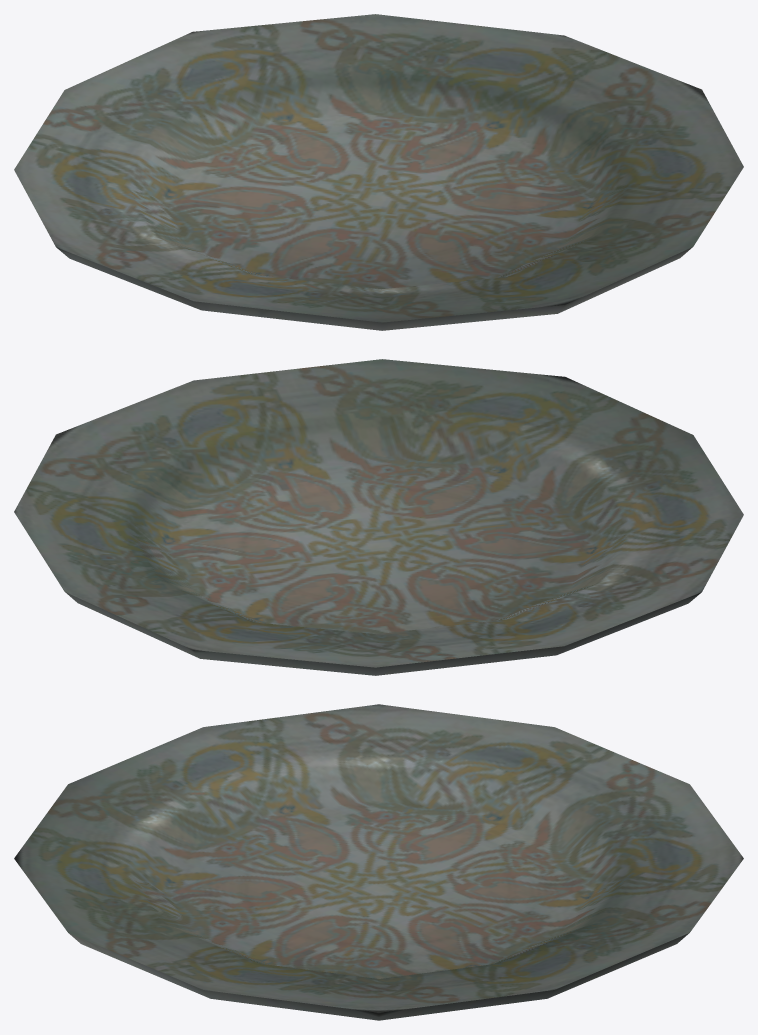
The model's file is ma_restaurant_plate_02_lod1.glb.
The picture shows the model from 3 angles, top to bottom: view 1: azimuth 30°, elevation 25°; view 2: azimuth 150°, elevation 25°; view 3: azimuth 270°, elevation 25°; orthographic projection. The views are drawn at different scales.
Visible parts, largest first — view 1: surf0; view 2: surf0; view 3: surf0.
Boxes of the visible parts, x1,y1,x2,y2 form: surf0: (14, 14, 743, 330); surf0: (14, 359, 743, 675); surf0: (14, 704, 743, 1020).
Size of the model in its own units: 13.34 by 1.01 by 13.34.
